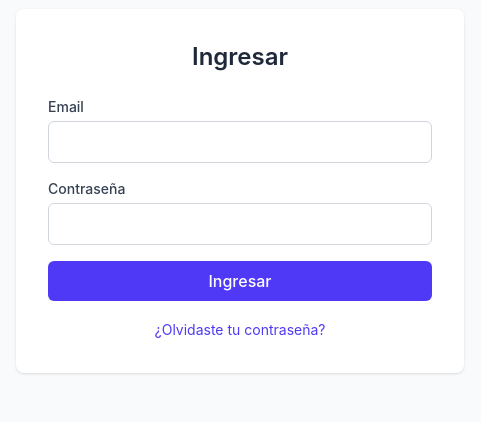
LoginPage — login flow › shows error message on invalid credentials (triangulate)
Type "wrong@test.com" into the field labelled "Email".
click(240, 142); type("wrong@test.com")  # box top-left (48, 121), bottom-right (432, 163)
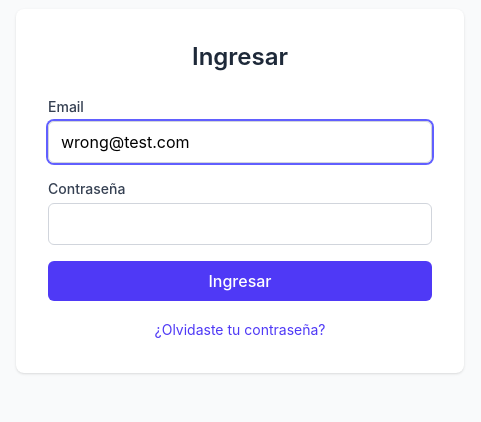
Type "wrongpass" into the password field labelled "Contraseña".
click(240, 224); type("wrongpass")  # box top-left (48, 203), bottom-right (432, 245)
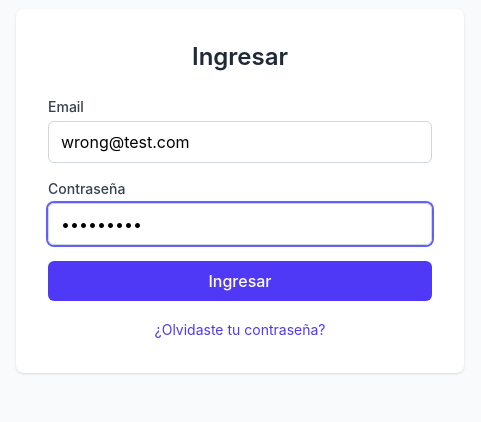
Click the button "Ingresar".
click(240, 281)  # box top-left (48, 261), bottom-right (432, 301)
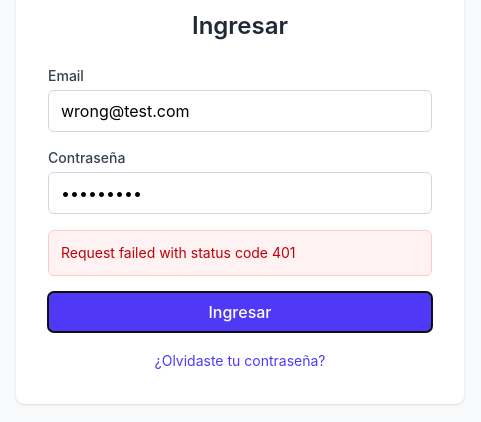
Result: the message "Request failed with status code 401" is shown at top-left (48, 230), bottom-right (432, 276)
